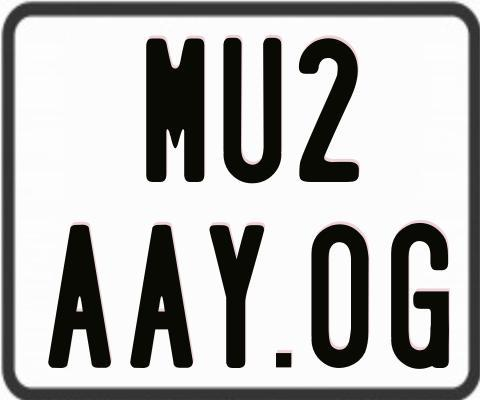0: (310, 224, 370, 371)
2: (299, 35, 361, 185)
A: (130, 223, 198, 371), (47, 223, 113, 367)
G: (388, 221, 447, 370)
M: (143, 37, 205, 185)
U: (222, 35, 283, 185)
Y: (210, 225, 270, 374)
